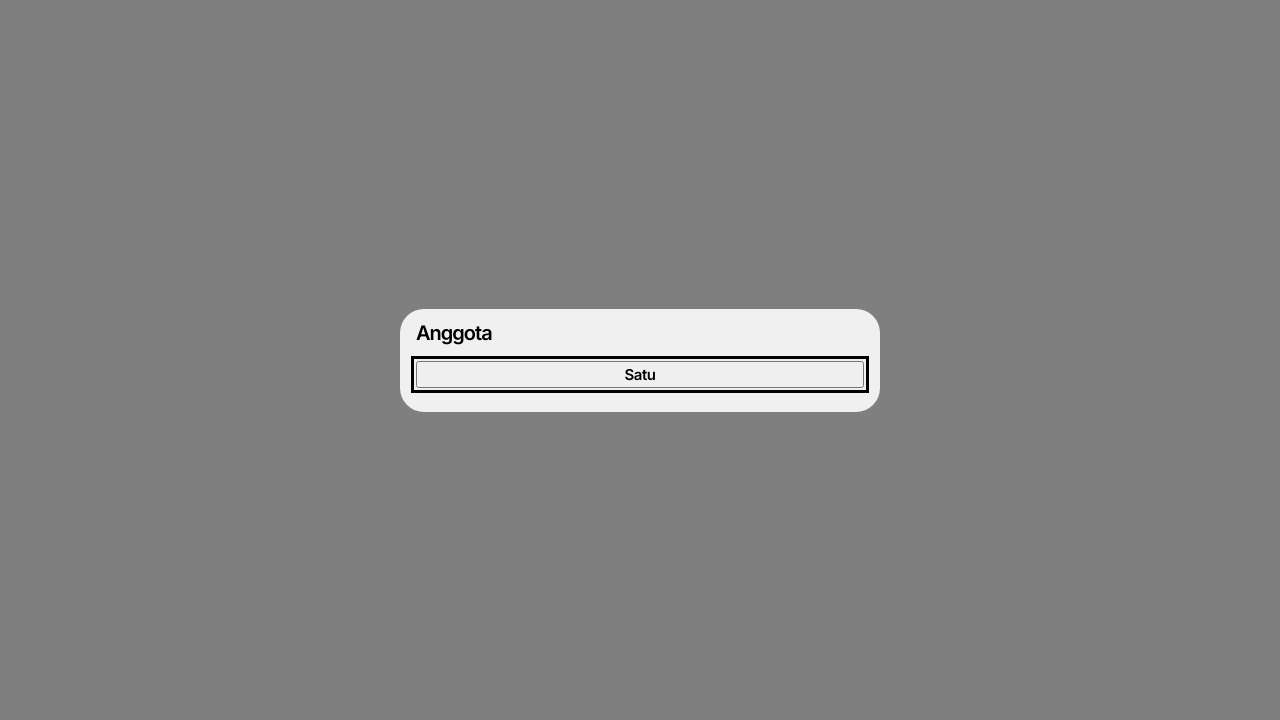
Sheet › a dialog opened inside the sheet also makes the sheet's own scrim inert, and gives it back after
The width and height of the screenshot is (1280, 720).
Click the button "Satu". click: (640, 374)
box: [416, 360, 864, 388]
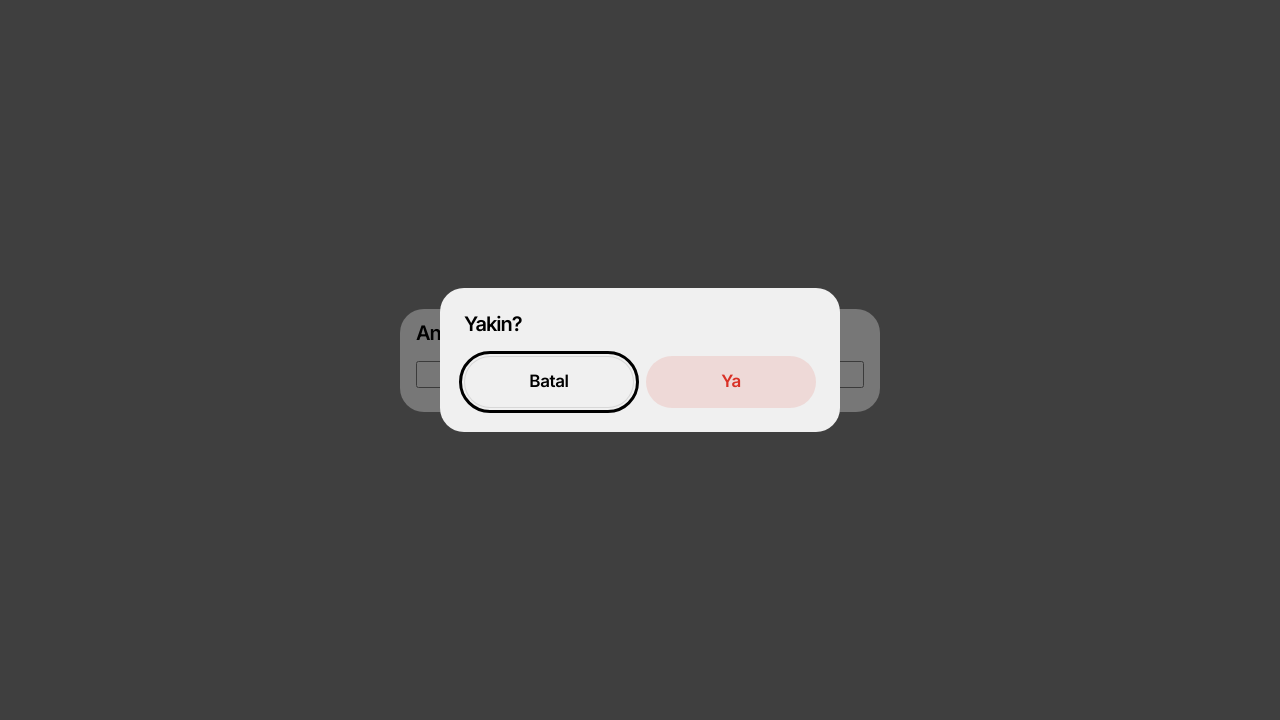
Expected: the number of elements with class "sheet-scrim" is 2
Click the element with class "sheet-scrim" in the row of "Yakin?". click: (77, 360)
box: [0, 0, 1279, 719]
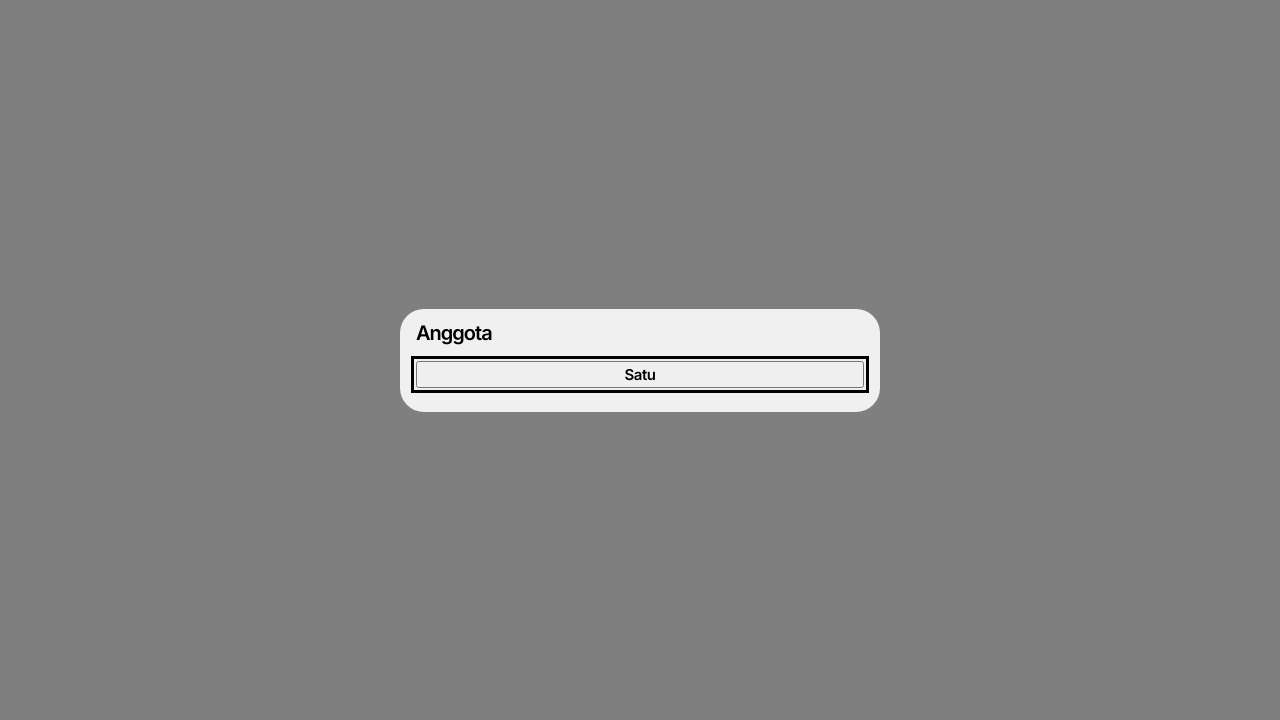
Expected: the dialog "Yakin? Batal Ya" is gone
